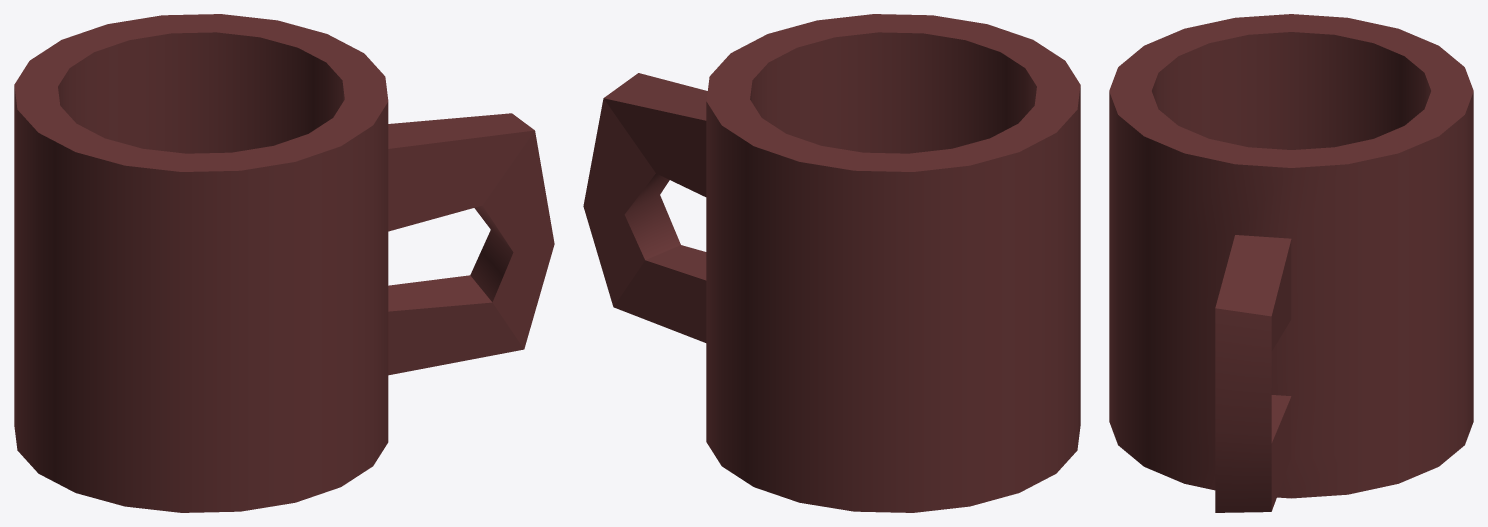
Rendered from Taza.fbx.
3 renders of one model, left to right at view 1: azimuth 30°, elevation 25°; view 2: azimuth 150°, elevation 25°; view 3: azimuth 270°, elevation 25°, orthographic. The views are drawn at different scales.
Visible parts, largest first — view 1: Taza; view 2: Taza; view 3: Taza.
Boxes of the visible parts, box(x1,y1,x2,y2) form: Taza: box(14, 14, 554, 512); Taza: box(583, 14, 1080, 512); Taza: box(1109, 14, 1473, 512).
Size of the model in its own units: 8.44 by 5.69 by 5.69.
